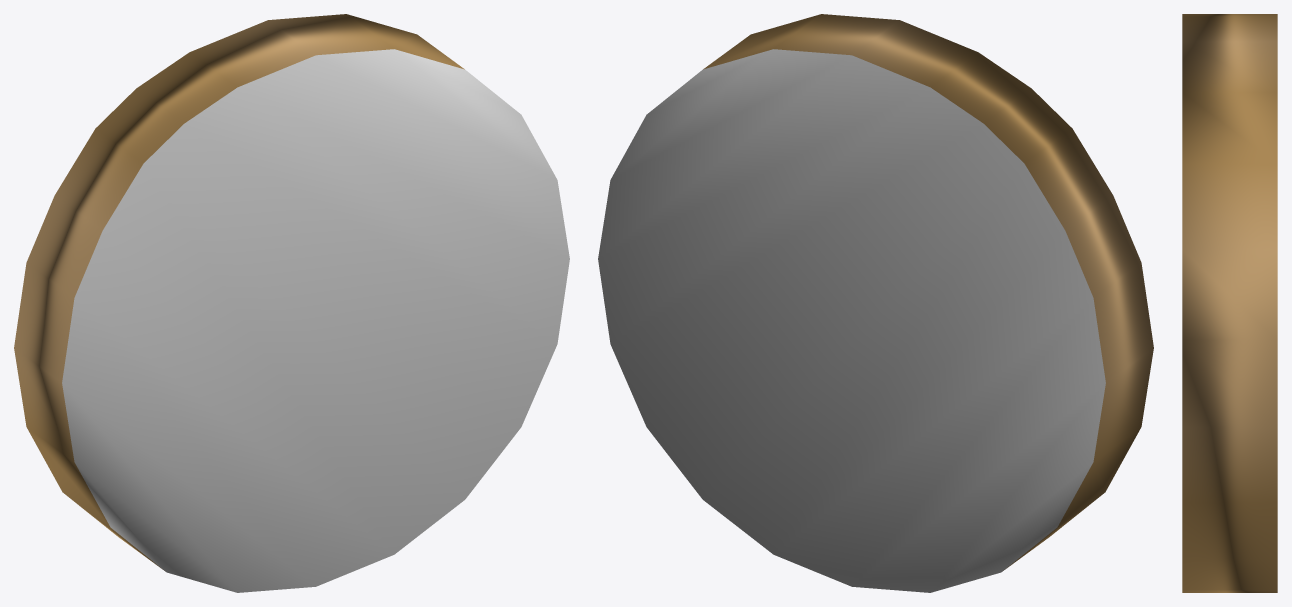
The model's file is ClothingCatalogueSign.glb.
3 renders of one model, left to right at view 1: azimuth 30°, elevation 25°; view 2: azimuth 150°, elevation 25°; view 3: azimuth 270°, elevation 25°, orthographic.
Parts seen in each view (by area): view 1: ClothingCatalogueSign; view 2: ClothingCatalogueSign; view 3: ClothingCatalogueSign.
Part boxes in pixels (x1,y1,x2,y2): ClothingCatalogueSign: (14, 14, 569, 592); ClothingCatalogueSign: (598, 14, 1153, 592); ClothingCatalogueSign: (1182, 14, 1277, 592).
Size of the model in its own units: 0.861 by 0.861 by 0.141.
